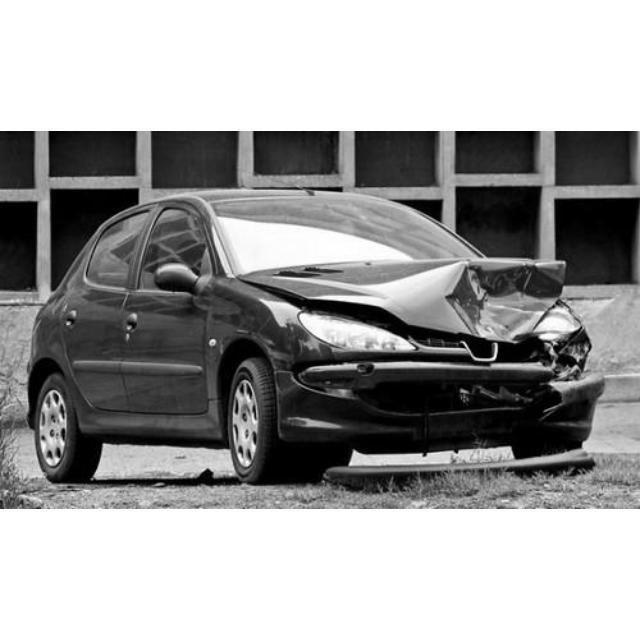bonnet-dent: (255, 253, 557, 337)
front-bumper-dent: (296, 322, 576, 448)
